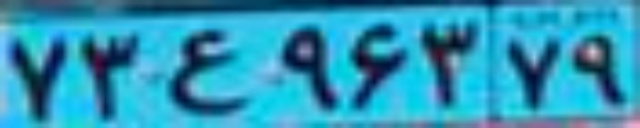3: (417, 18, 478, 106), (79, 31, 138, 120)
6: (345, 22, 410, 110)
7: (5, 30, 72, 122), (501, 38, 566, 109)
9: (278, 25, 338, 111), (570, 34, 628, 106)
ain: (167, 28, 250, 114)
